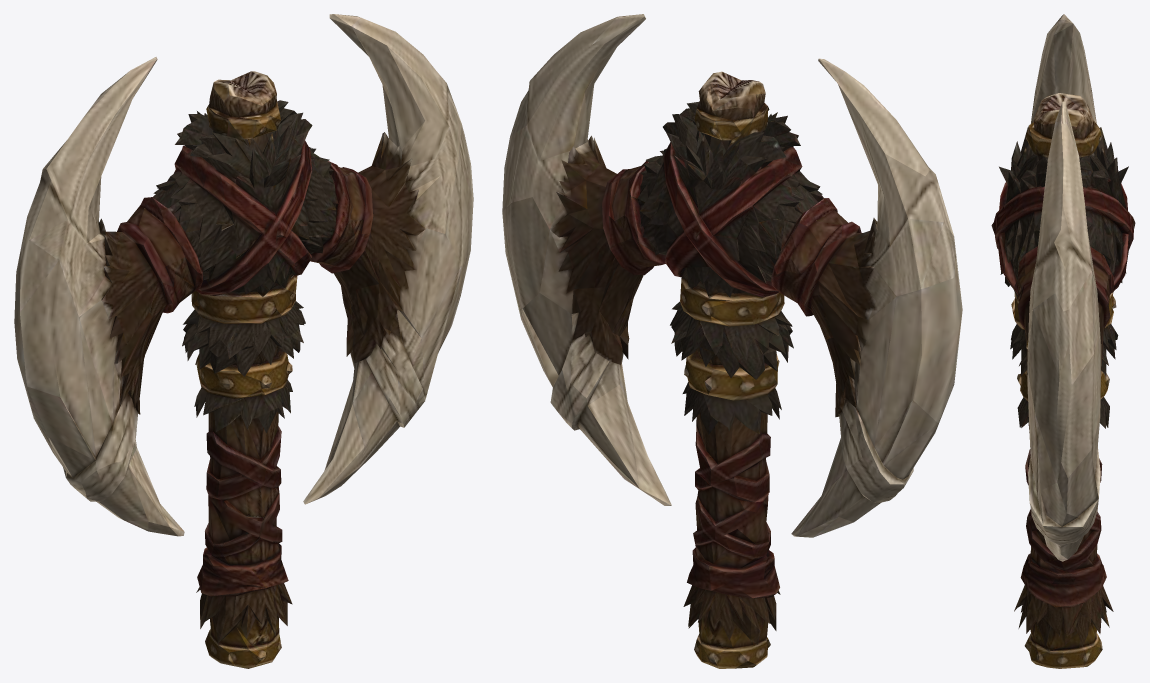
Rendered from mammoth_axe.glb.
3 renders of one model, left to right at view 1: azimuth 30°, elevation 25°; view 2: azimuth 150°, elevation 25°; view 3: azimuth 270°, elevation 25°, orthographic. The views are drawn at different scales.
Bounding box in the file's own units: 1.33 × 1.72 × 0.3762.
1 material, 1 textured.
